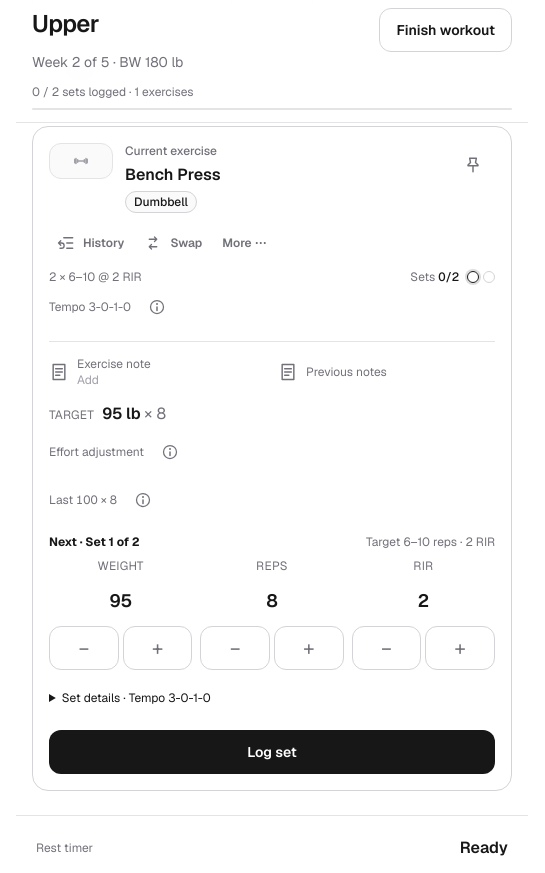
Scenario: active workout effective target suggestions › preserves a typed weight across a refresh that changes calculated evidence
The image size is (545, 873).
(page scrolled)
Step 1. Click the button named "Increase Weight" → (158, 648), box [123,626,192,670]
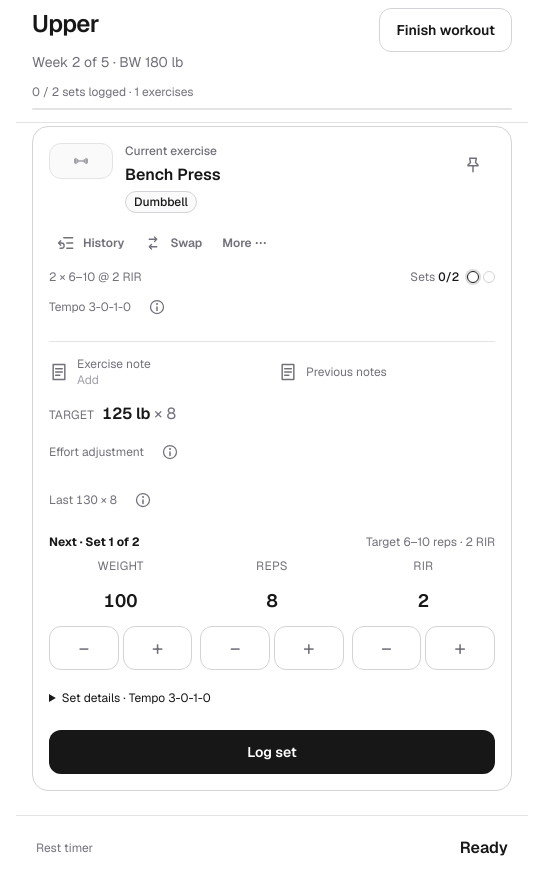
Check: the field named "Weight" holds "100", box [49,578,192,622]
